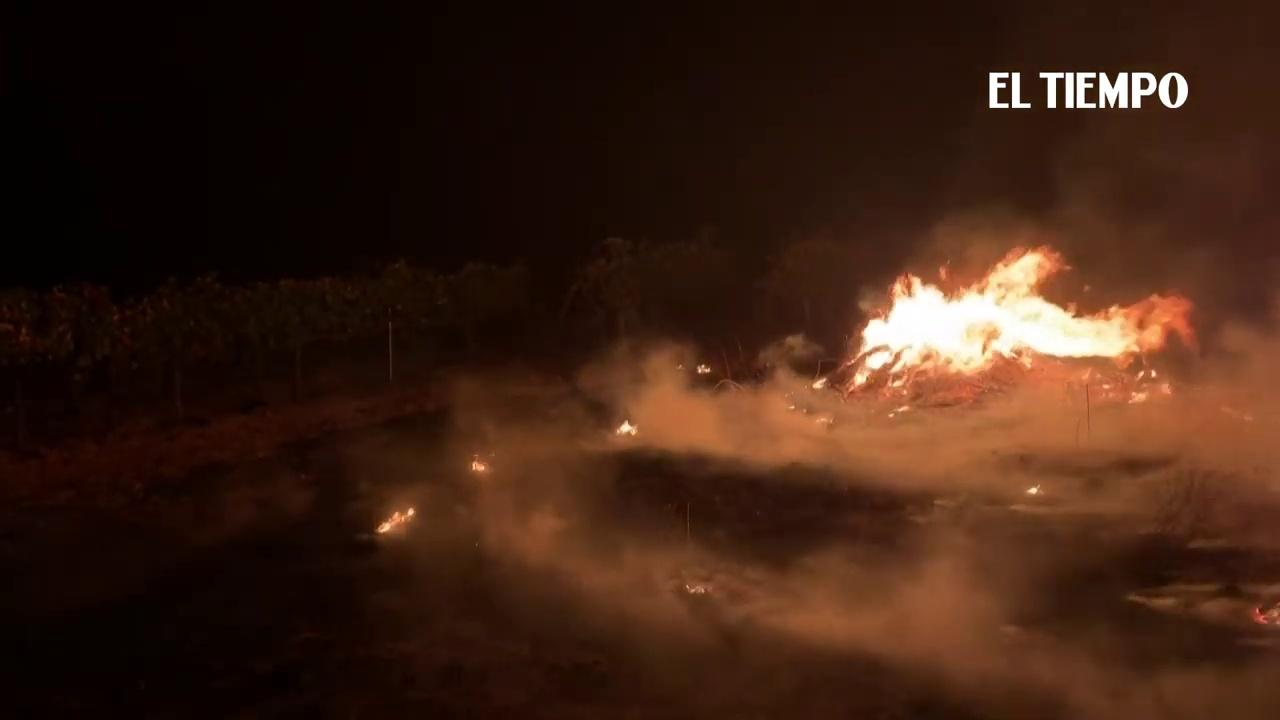Fire: (834, 239, 1186, 404), (373, 507, 415, 533), (468, 452, 493, 474), (618, 419, 639, 435), (696, 359, 714, 377), (811, 375, 827, 391)
